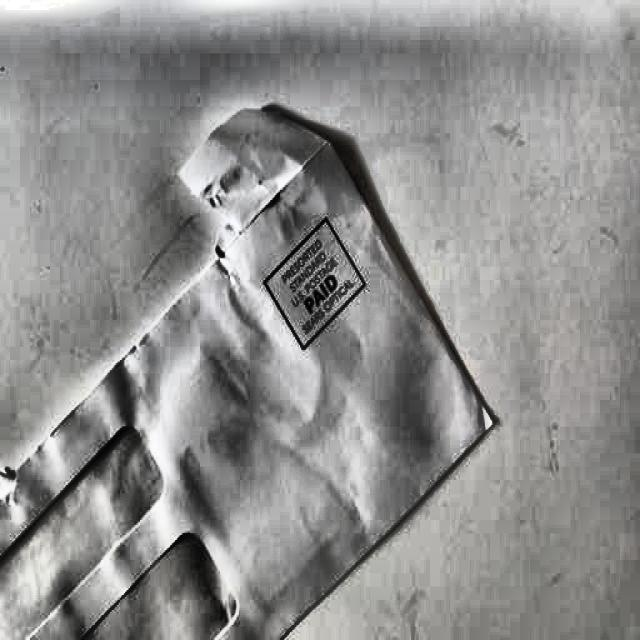paper: (0, 101, 504, 562)
